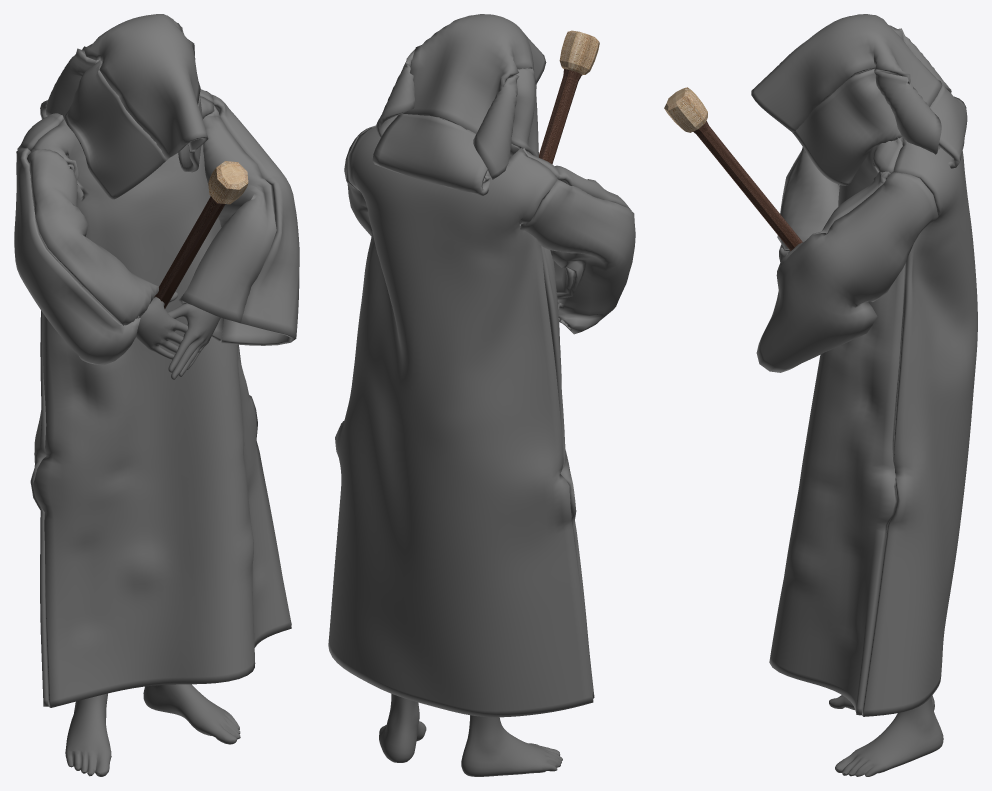
The model's file is statue_3.fbx.
The picture shows the model from 3 angles, left to right: view 1: azimuth 30°, elevation 25°; view 2: azimuth 150°, elevation 25°; view 3: azimuth 270°, elevation 25°; orthographic projection. The views are drawn at different scales.
Parts seen in each view (by area): view 1: Plane.001, Ch36.001, Cube.001; view 2: Plane.001, Ch36.001, Cube.001; view 3: Plane.001, Ch36.001, Cube.001.
Boxes of the visible parts, left/top/right/bottom form: Plane.001: left=14, top=14, right=299, bottom=707; Ch36.001: left=27, top=153, right=240, bottom=776; Cube.001: left=154, top=161, right=248, bottom=308; Plane.001: left=328, top=14, right=635, bottom=717; Ch36.001: left=379, top=694, right=562, bottom=776; Cube.001: left=539, top=30, right=599, bottom=164; Plane.001: left=751, top=14, right=977, bottom=716; Ch36.001: left=827, top=95, right=943, bottom=776; Cube.001: left=664, top=87, right=802, bottom=250.
Size of the model in its own units: 281 by 698 by 277.
